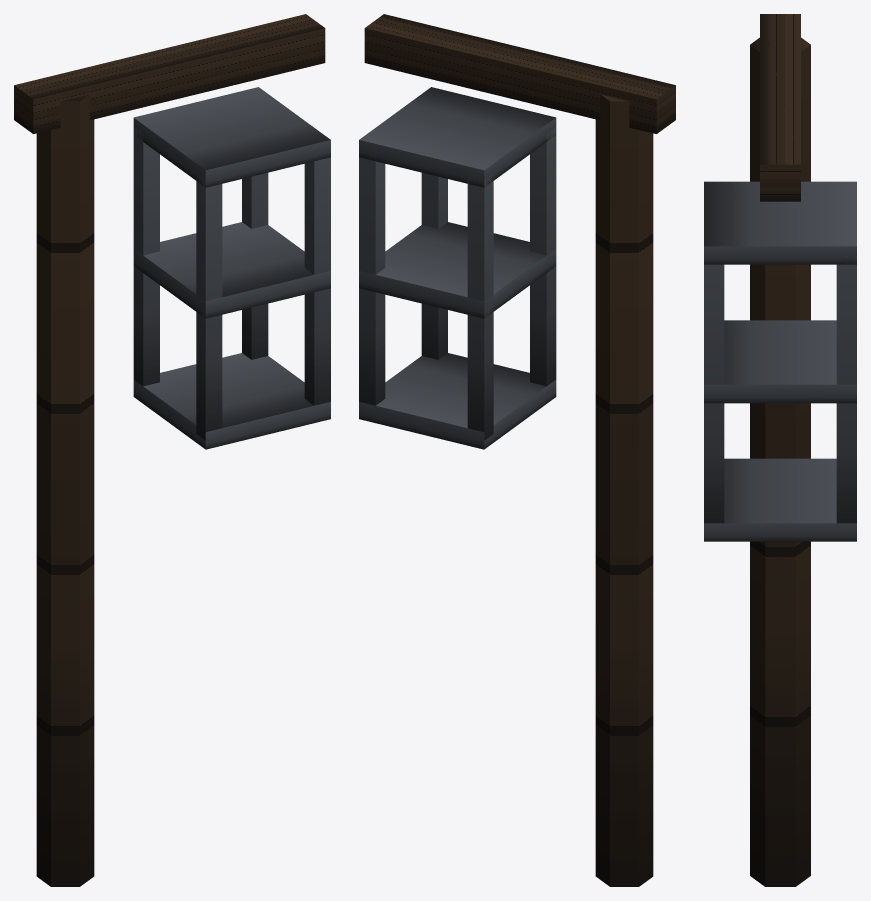
File: gibbet.glb
3 views of the same model, side by side, from view 1: azimuth 30°, elevation 25°; view 2: azimuth 150°, elevation 25°; view 3: azimuth 270°, elevation 25° (orthographic). The views are drawn at different scales.
Visible parts, largest first — view 1: gibbet; view 2: gibbet; view 3: gibbet.
Boxes of the visible parts, x1,y1,x2,y2 form: gibbet: (14,14,330,886); gibbet: (359,14,675,886); gibbet: (704,14,856,886).
Bounding box in the file's own units: 0.7 × 1.82 × 0.3.
Materials: 1 (1 with a texture image).
